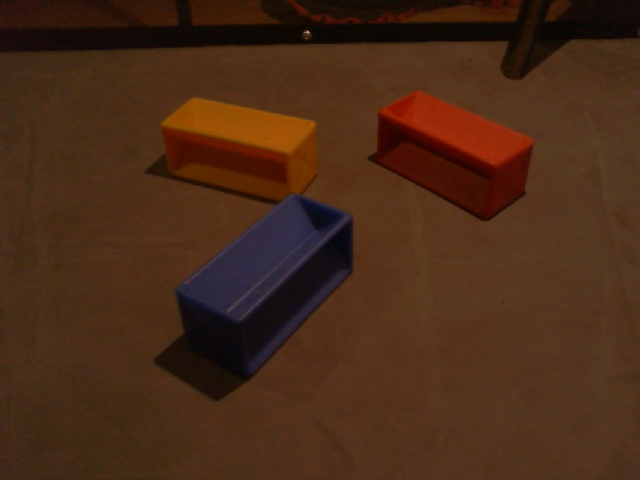BlueSample: (174, 193, 357, 382)
RedSample: (375, 89, 537, 224)
YellowSample: (157, 96, 321, 202)
